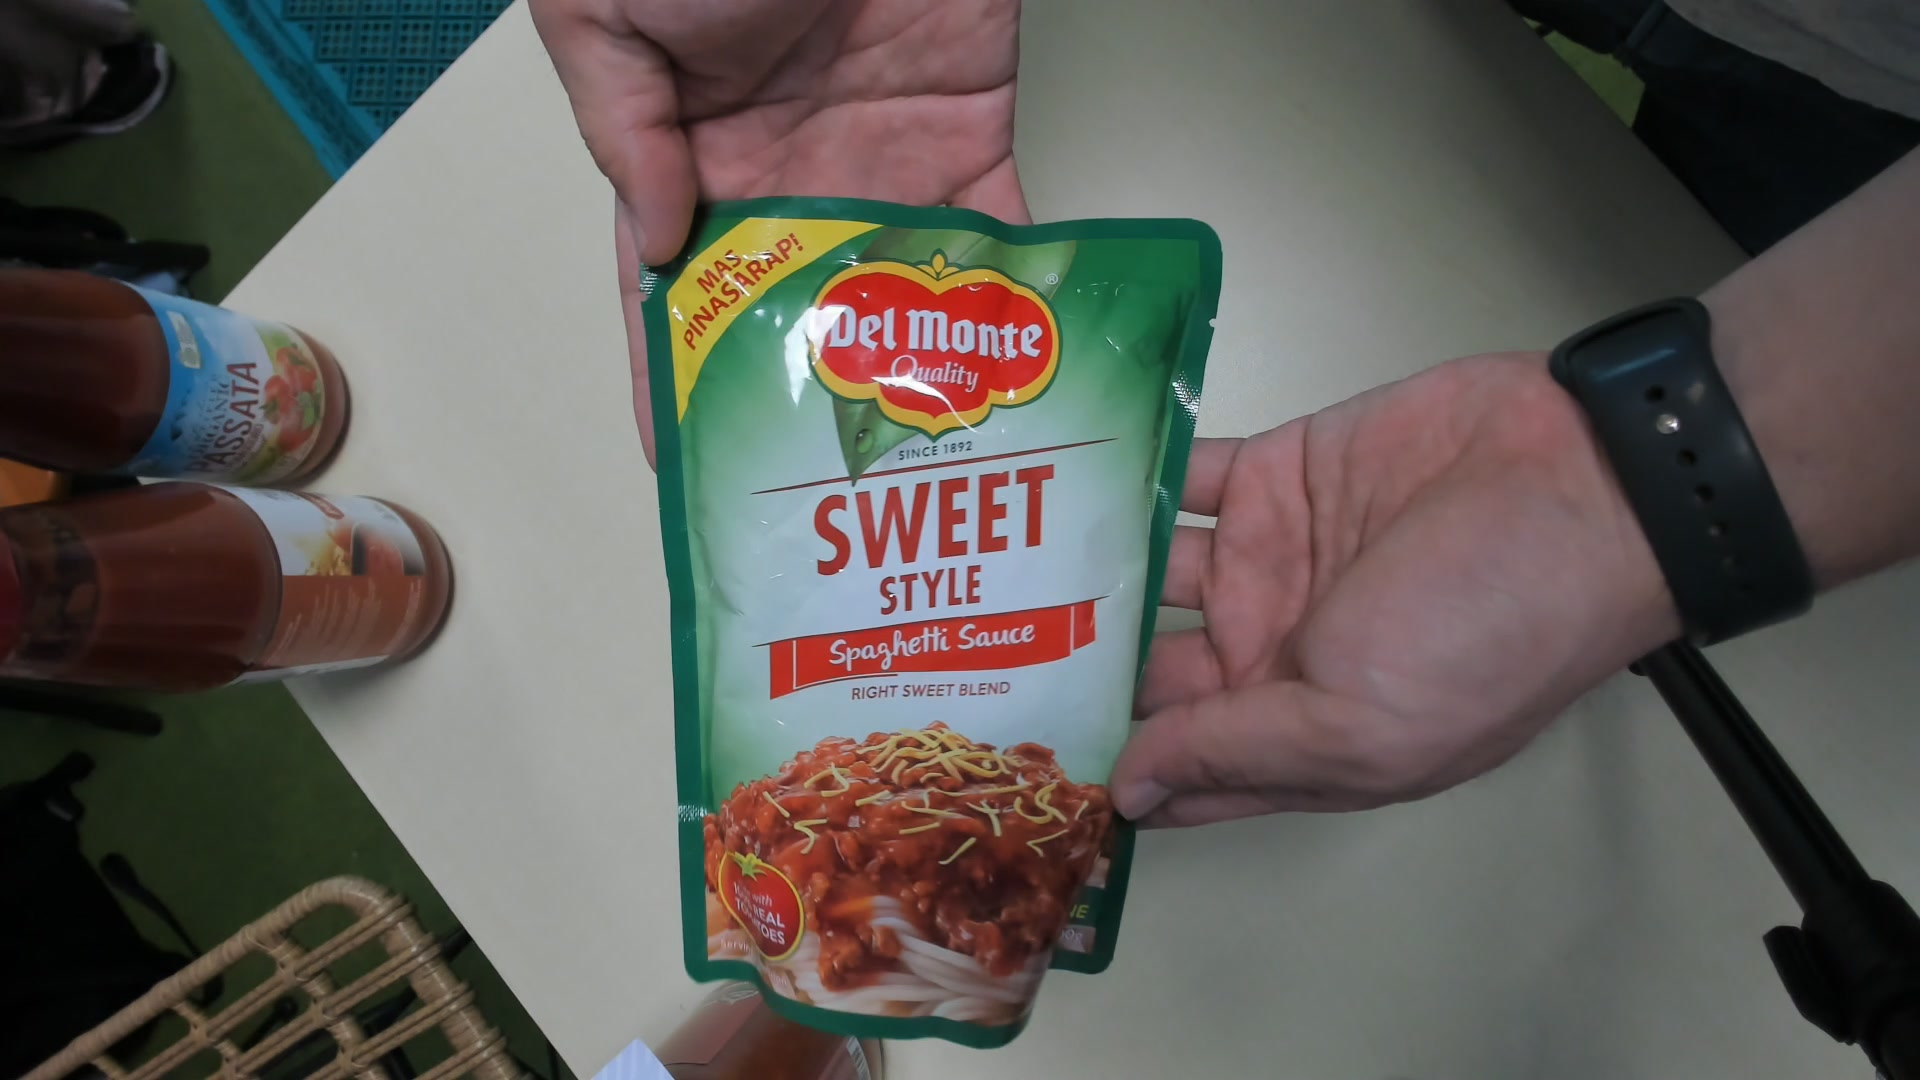PastaSauce_500-599g_Halal_NonHealthy: (661, 195, 1187, 1035)
